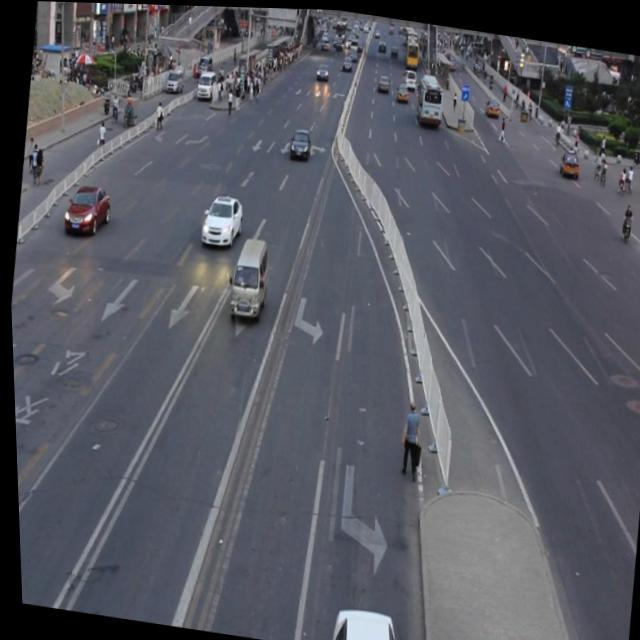car: (59, 178, 112, 238), (323, 600, 399, 640), (196, 189, 244, 248)
truck: (225, 235, 271, 318)
